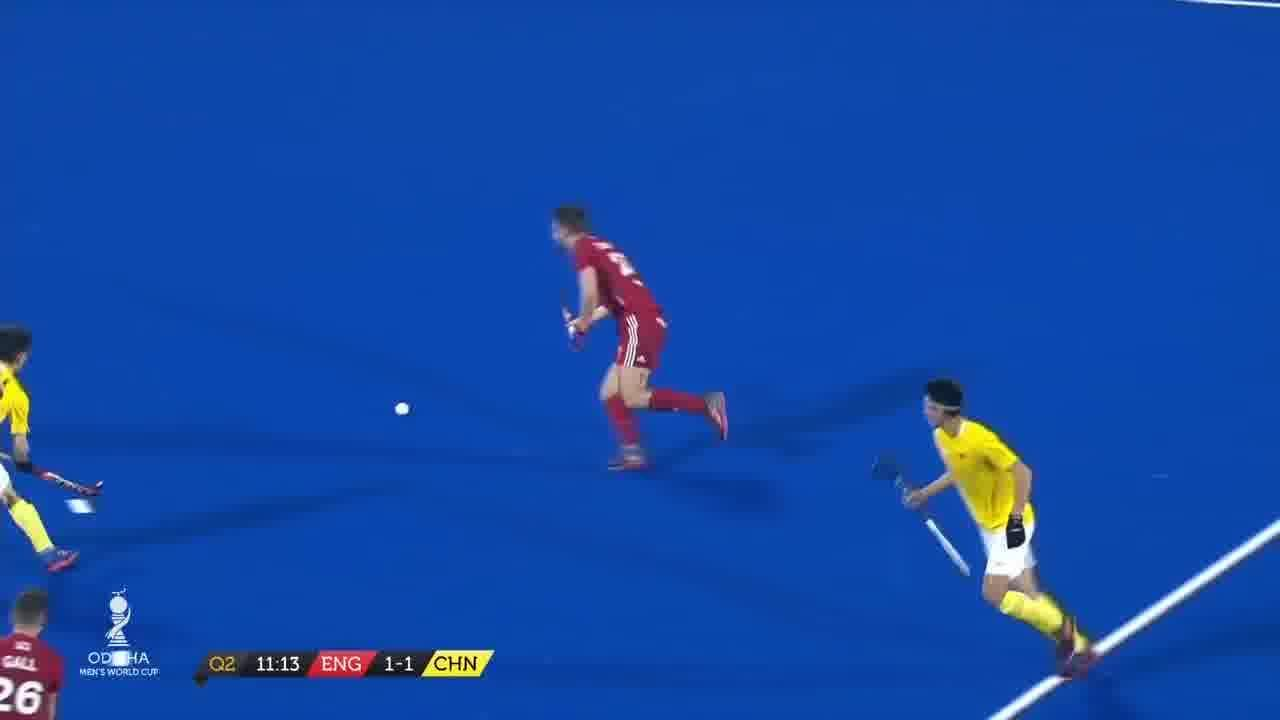ball: (398, 402, 412, 417)
